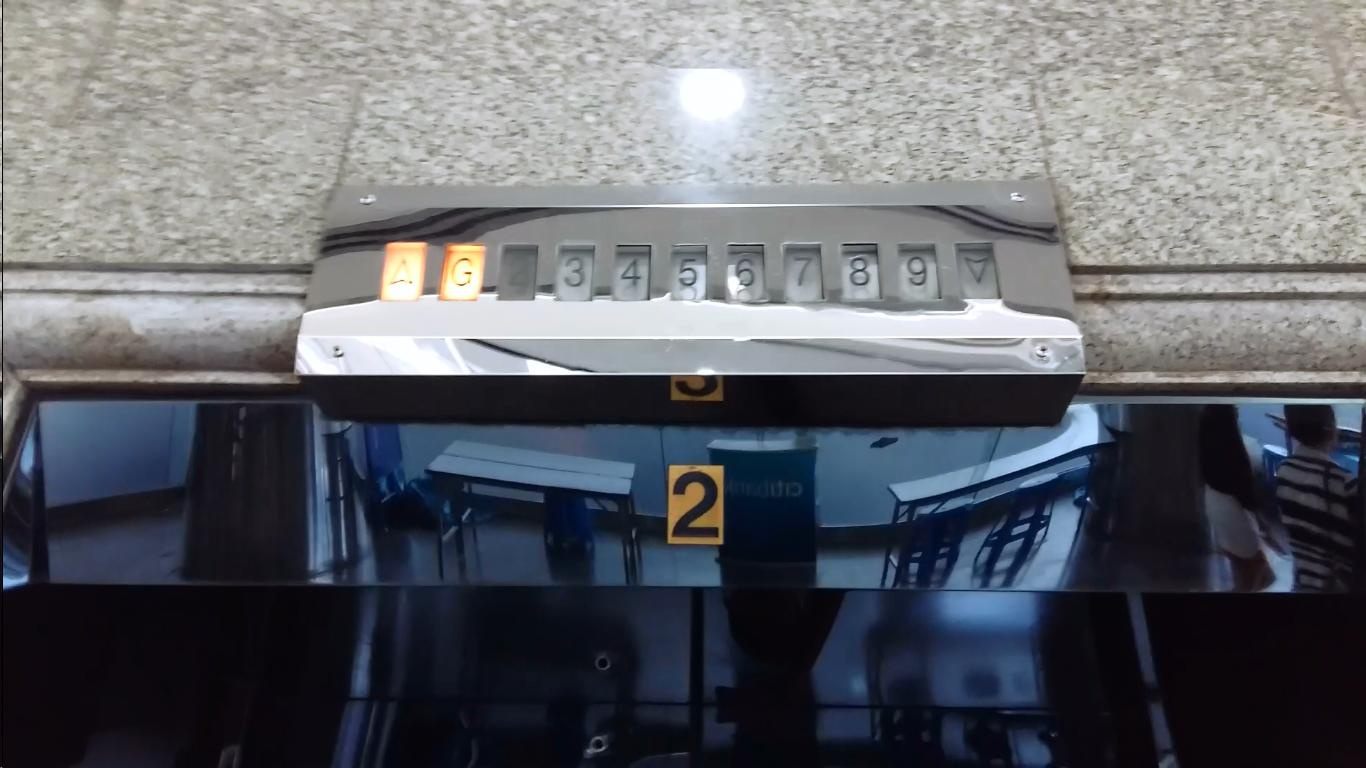2: (661, 458, 726, 549)
3: (551, 238, 596, 304)
4: (494, 237, 539, 304), (609, 237, 650, 304)
5: (666, 239, 708, 304)
6: (724, 239, 769, 305)
7: (777, 237, 826, 306)
8: (834, 237, 884, 305)
9: (891, 237, 944, 305)
G: (441, 237, 486, 304)
down: (949, 237, 1006, 303)
up: (380, 237, 424, 303)
